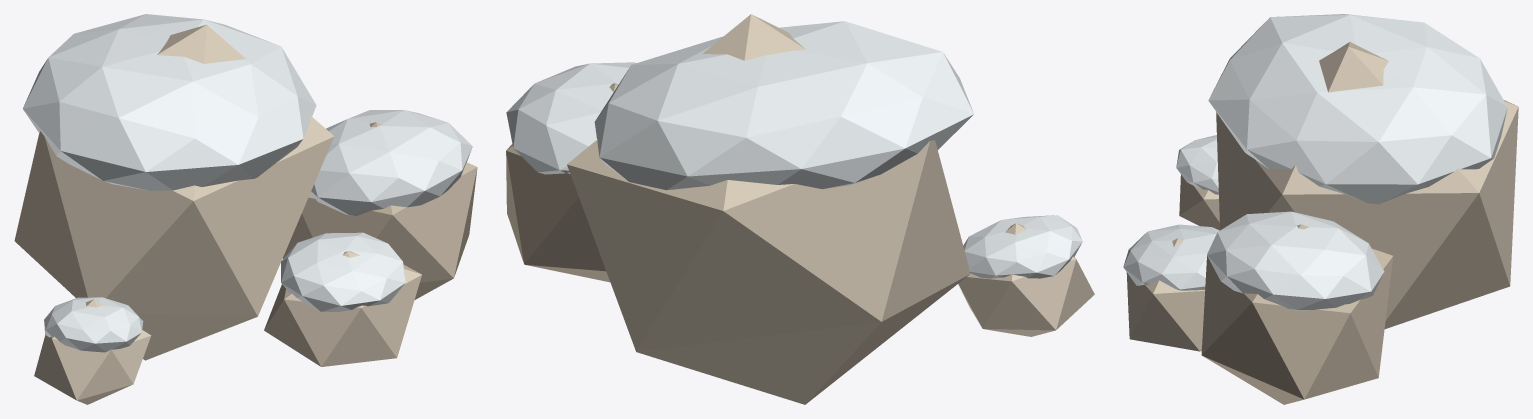
File: rock_cluster_snow.glb
3 renders of one model, left to right at view 1: azimuth 30°, elevation 25°; view 2: azimuth 150°, elevation 25°; view 3: azimuth 270°, elevation 25°, orthographic. The views are drawn at different scales.
Visible parts, largest first — view 1: rock_cluster_snow; view 2: rock_cluster_snow; view 3: rock_cluster_snow.
Boxes of the visible parts, x1=… form: rock_cluster_snow: x1=14, y1=14, x2=477, y2=404; rock_cluster_snow: x1=506, y1=14, x2=1094, y2=404; rock_cluster_snow: x1=1123, y1=14, x2=1518, y2=404.
Size of the model in its own units: 1.92 by 1.3 by 1.49.
